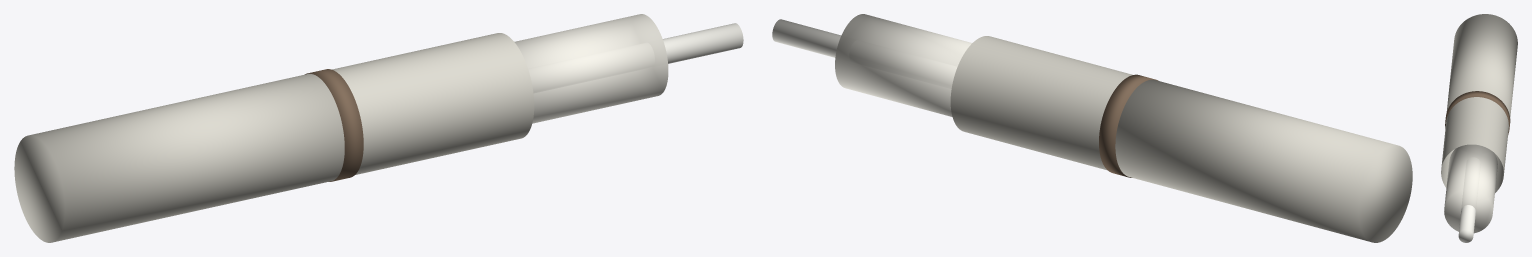
3 views of the same model, side by side, from view 1: azimuth 30°, elevation 25°; view 2: azimuth 150°, elevation 25°; view 3: azimuth 270°, elevation 25° (orthographic). The views are drawn at different scales.
Parts seen in each view (by area): view 1: rear solid outer conductor tube, exposed solid outer conductor sleeve, ptfe dielectric core, outer conductor cut lip, solid center conductor continuous; view 2: rear solid outer conductor tube, exposed solid outer conductor sleeve, ptfe dielectric core, outer conductor cut lip, solid center conductor continuous; view 3: rear solid outer conductor tube, ptfe dielectric core, exposed solid outer conductor sleeve, solid center conductor continuous, outer conductor cut lip.
Part boxes in pixels (x1,y1,x2,y2): rear solid outer conductor tube: (14,73,344,242); exposed solid outer conductor sleeve: (332,33,534,174); ptfe dielectric core: (514,14,668,123); outer conductor cut lip: (305,69,363,181); solid center conductor continuous: (663,23,743,63); rear solid outer conductor tube: (1115,79,1412,242); exposed solid outer conductor sleeve: (950,36,1132,170); ptfe dielectric core: (835,14,971,116); outer conductor cut lip: (1099,74,1158,177); solid center conductor continuous: (772,19,841,57); rear solid outer conductor tube: (1446,14,1517,118); ptfe dielectric core: (1444,144,1497,233); exposed solid outer conductor sleeve: (1441,97,1508,192); solid center conductor continuous: (1458,205,1475,242); outer conductor cut lip: (1445,91,1510,134).
Bounding box in the file's own units: 6.01 × 0.846 × 1.
